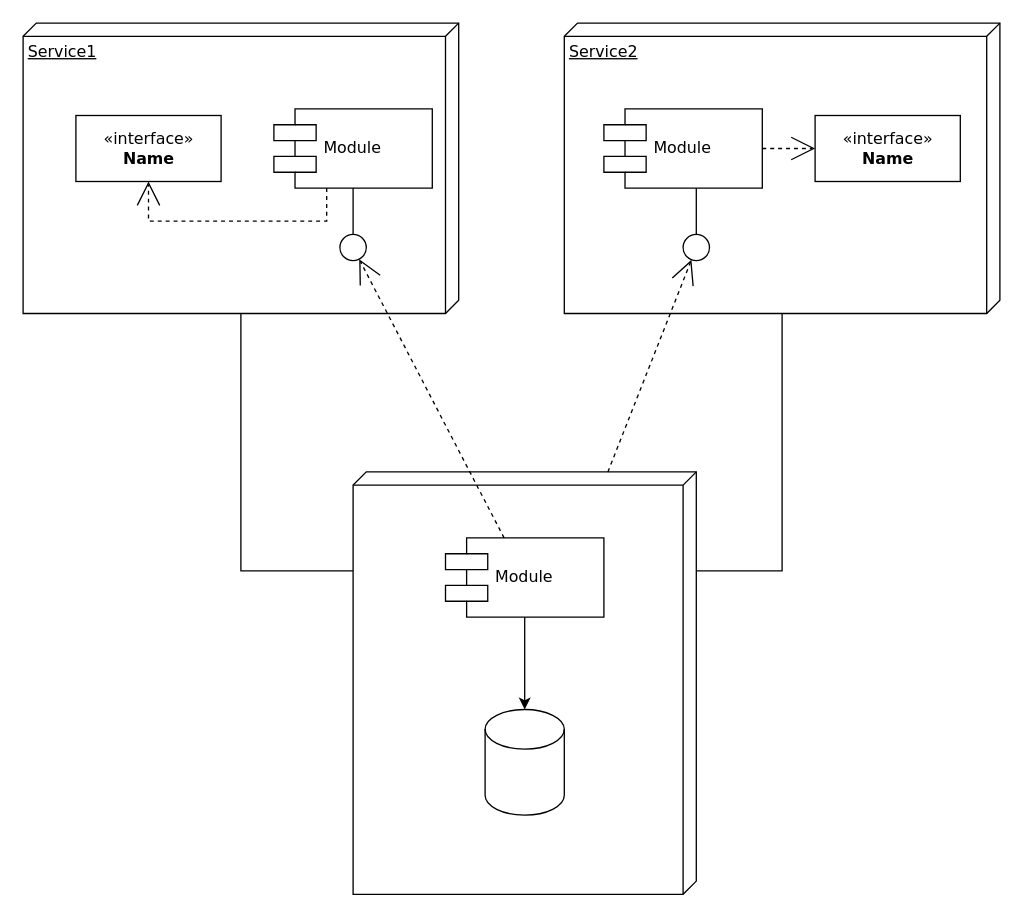
This 1023x917 diagram has some shape labels left out. The shapes that lost their labels are listed below. From the top down, each one's box as (x1, y1, x2, y2) in pixels, then its label:
(352, 471, 696, 894): Current Project
(484, 708, 564, 815): DB
